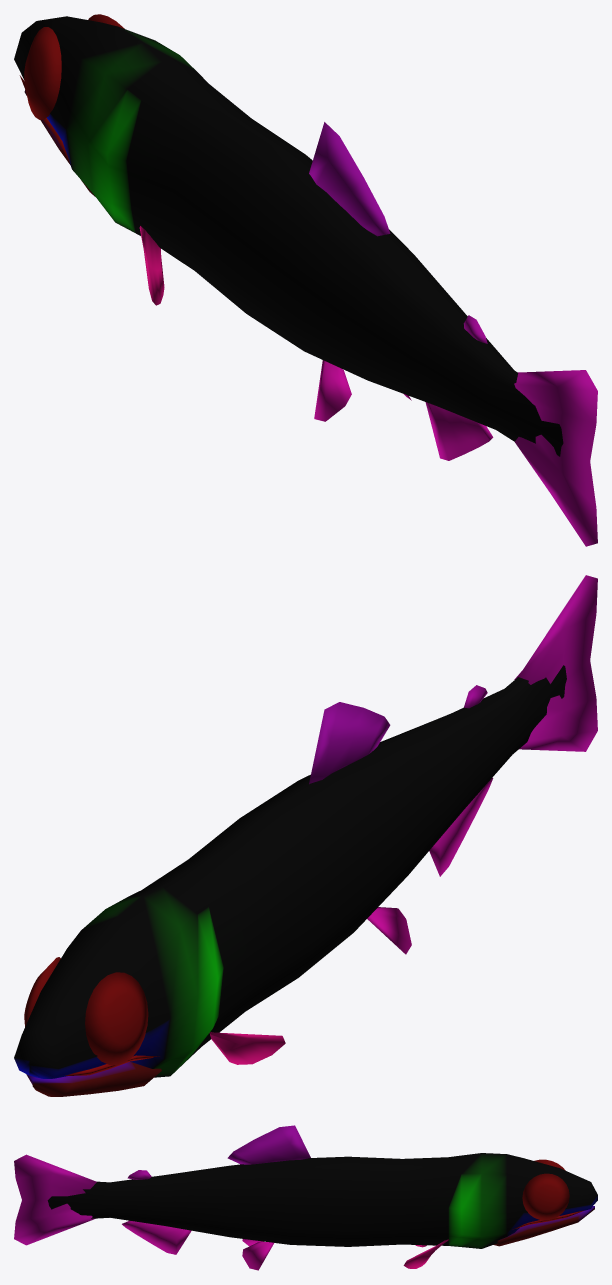
Rendered from sockeye_fry_game.glb.
The picture shows the model from 3 angles, top to bottom: view 1: azimuth 30°, elevation 25°; view 2: azimuth 150°, elevation 25°; view 3: azimuth 270°, elevation 25°; orthographic projection. The views are drawn at different scales.
Visible parts, largest first — view 1: sockeye_fry_game; view 2: sockeye_fry_game; view 3: sockeye_fry_game.
Boxes of the visible parts, box(x1,y1,x2,y2) form: sockeye_fry_game: box(14, 14, 597, 546); sockeye_fry_game: box(14, 575, 597, 1096); sockeye_fry_game: box(14, 1125, 597, 1270).
Size of the model in its own units: 0.0799 by 0.1484 by 0.5877.
